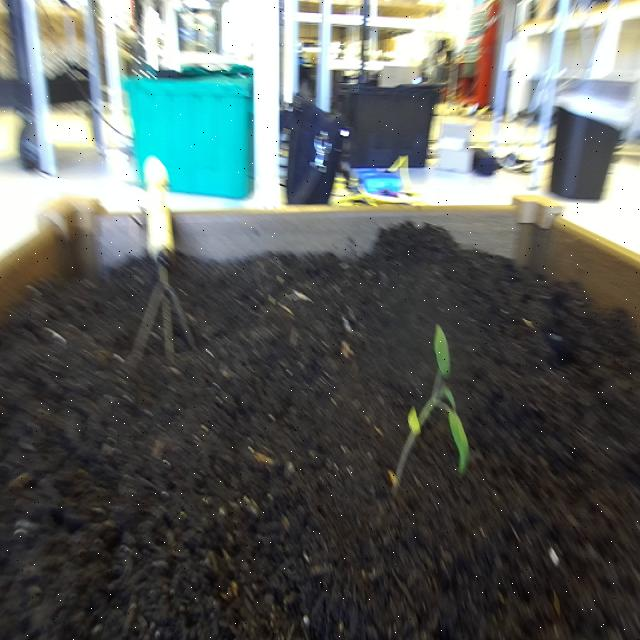Healthy: (385, 305, 473, 500)
